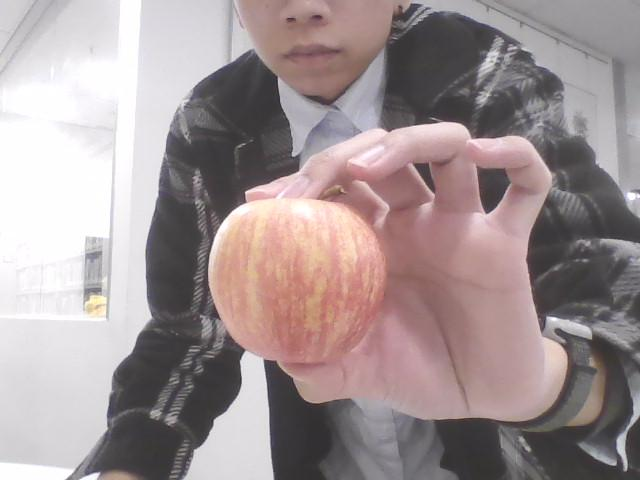apple: (209, 194, 389, 363)
